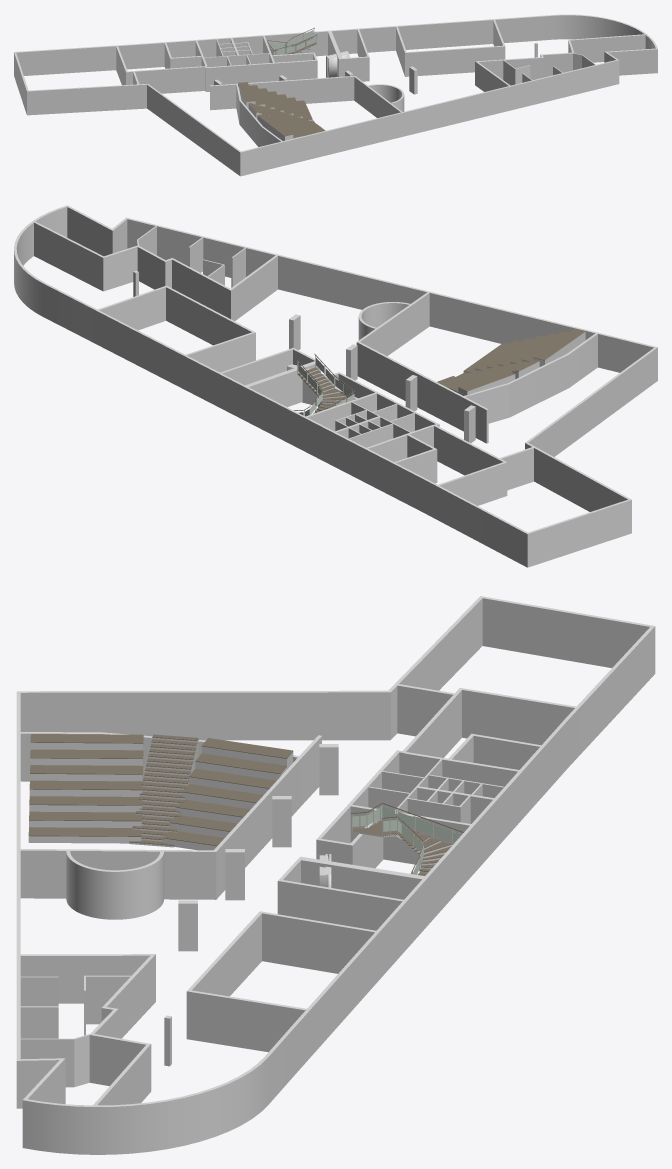
3 renders of one model, top to bottom at view 1: azimuth 30°, elevation 25°; view 2: azimuth 150°, elevation 25°; view 3: azimuth 270°, elevation 25°, orthographic. The views are drawn at different scales.
Visible parts, largest first — view 1: Wall.001, Wall.009, Wall.002, Wall.007, Wall.011, Stair.002, Stair.001, Wall.021, Stair, Wall.003, Wall.020, Wall.006 (+5 smaller); view 2: Wall.001, Wall.002, Wall.007, Wall.011, Wall.009, Stair.001, Stair, Wall.021, Wall.010, Wall.017, Stair.002, Wall.025 (+5 smaller); view 3: Wall.001, Wall.011, Stair.001, Wall.009, Wall.002, Wall.007, Stair.002, Wall.006, Stair.003, Wall.021, Stair, Wall.010 (+14 smaller).
Boxes of the visible parts, left/top/right/bottom form: Wall.001: left=14, top=14, right=657, bottom=176; Wall.009: left=116, top=36, right=317, bottom=93; Wall.002: left=236, top=76, right=401, bottom=146; Wall.007: left=475, top=34, right=645, bottom=91; Wall.011: left=396, top=20, right=505, bottom=76; Stair.002: left=238, top=82, right=312, bottom=121; Stair.001: left=257, top=113, right=325, bottom=140; Wall.021: left=341, top=29, right=369, bottom=81; Stair: left=267, top=27, right=317, bottom=55; Wall.003: left=210, top=83, right=236, bottom=110; Wall.020: left=204, top=53, right=269, bottom=67; Wall.006: left=368, top=84, right=404, bottom=111; Wall.001: left=14, top=205, right=657, bottom=567; Wall.002: left=356, top=292, right=597, bottom=430; Wall.007: left=34, top=221, right=277, bottom=321; Wall.011: left=97, top=285, right=255, bottom=372; Wall.009: left=306, top=372, right=507, bottom=505; Stair.001: left=463, top=328, right=585, bottom=373; Stair: left=294, top=353, right=354, bottom=416; Wall.021: left=220, top=347, right=315, bottom=385; Wall.010: left=245, top=361, right=320, bottom=406; Wall.017: left=394, top=434, right=437, bottom=483; Stair.002: left=437, top=369, right=515, bottom=395; Wall.025: left=499, top=447, right=533, bottom=490; Wall.001: left=16, top=596, right=655, bottom=1154; Wall.011: left=186, top=911, right=376, bottom=1052; Stair.001: left=28, top=734, right=143, bottom=843; Wall.009: left=316, top=688, right=576, bottom=868; Wall.002: left=20, top=732, right=302, bottom=899; Wall.007: left=20, top=954, right=155, bottom=1105; Stair.002: left=163, top=738, right=293, bottom=850; Wall.006: left=66, top=851, right=164, bottom=919; Stair.003: left=129, top=734, right=198, bottom=847; Wall.021: left=277, top=859, right=403, bottom=930; Stair: left=351, top=802, right=463, bottom=875; Wall.010: left=298, top=856, right=424, bottom=899.
Size of the model in its own units: 6186 by 478 by 3267.
